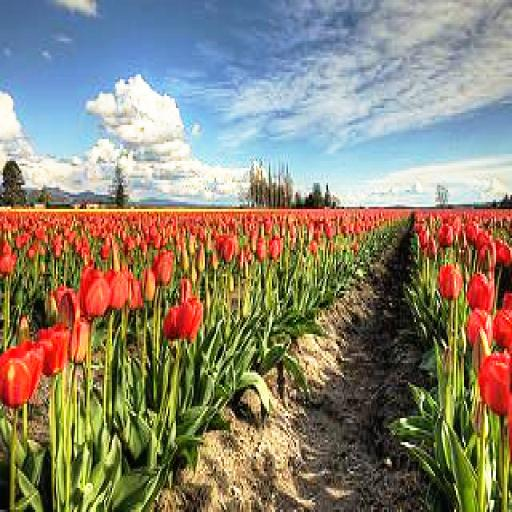tulip: (477, 354, 512, 414), (38, 329, 70, 373), (50, 289, 80, 334), (176, 296, 202, 339), (82, 274, 107, 317), (106, 266, 128, 308), (469, 272, 493, 310), (437, 264, 462, 298), (466, 310, 491, 341), (157, 250, 174, 281)
